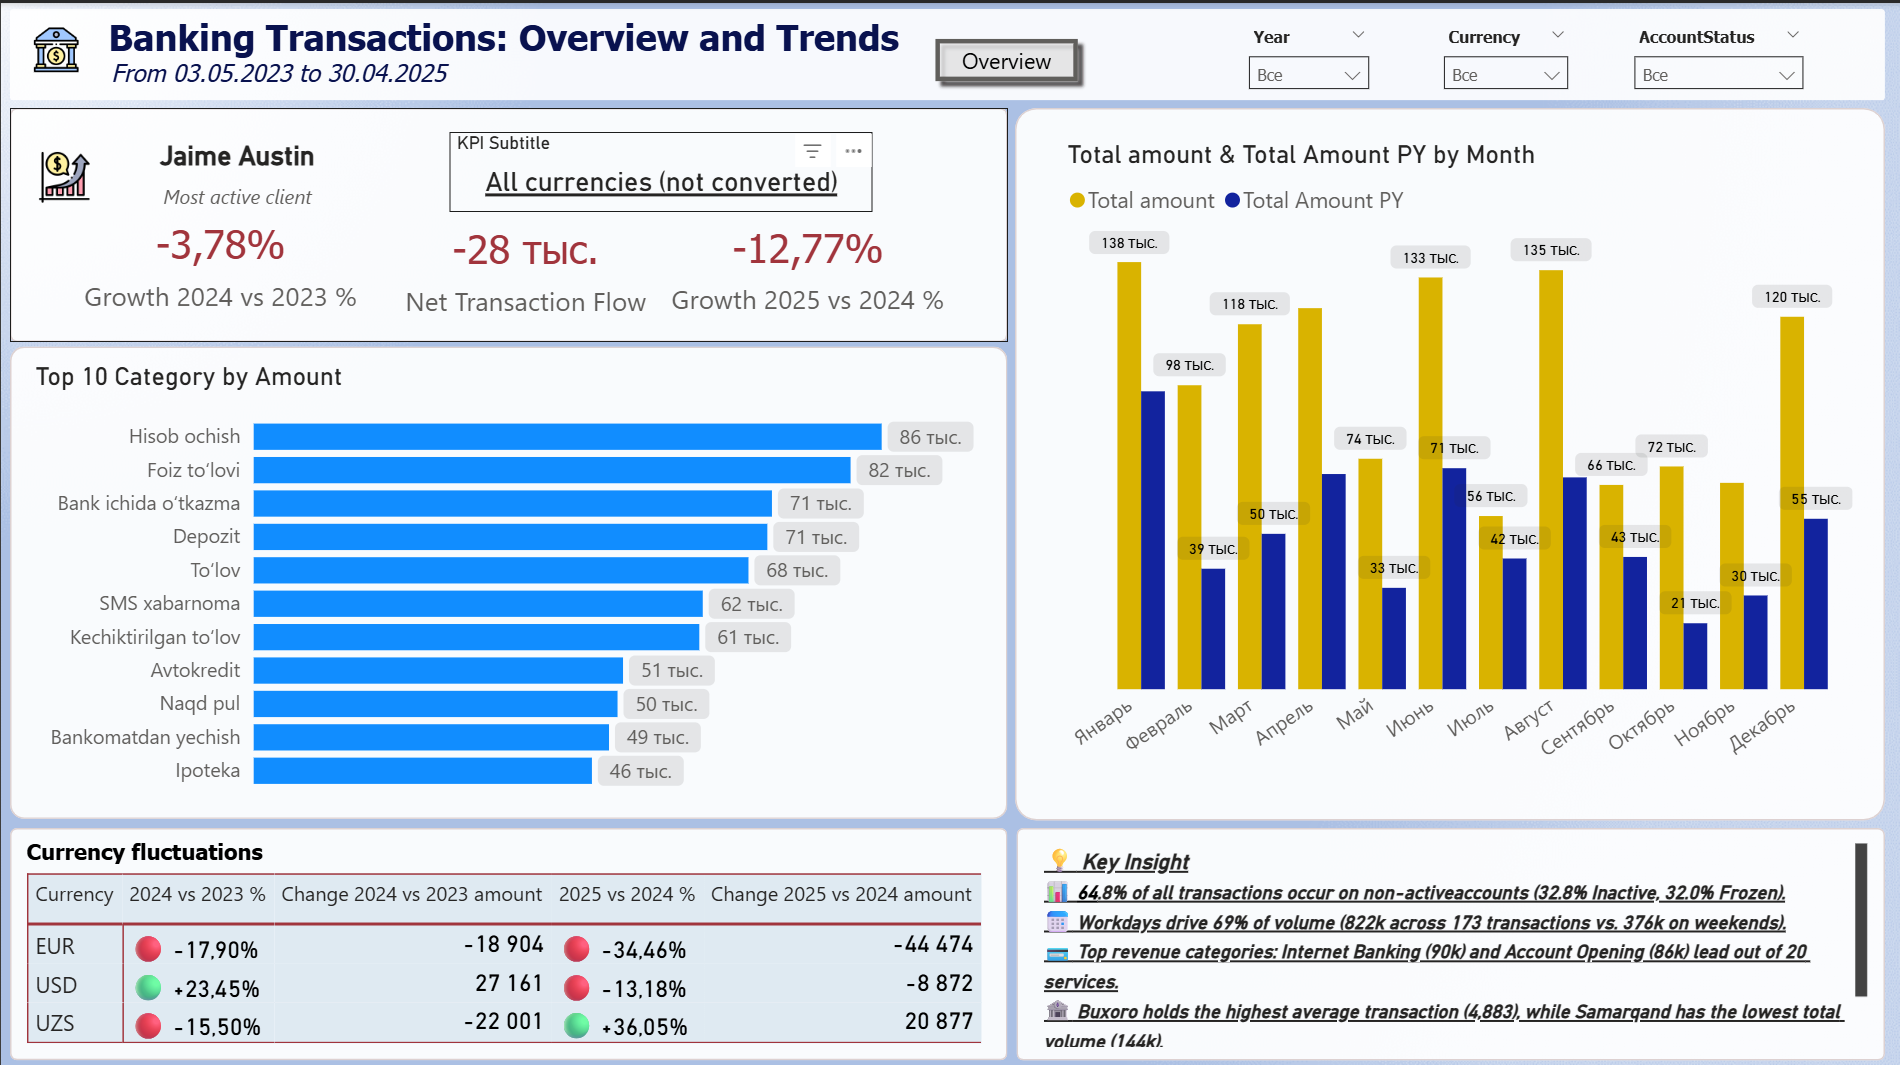

This screenshot's page, from the dashboard's own definition file:
{"tool":"powerbi","page":{"name":"Trends","canvas":[1280,720],"ordinal":1},"visuals":[{"type":"shape","box":[6.1,4,1257.1,61.4],"z":0,"group":"g2"},{"type":"shape","title":"Amount by Category","box":[6,70.4,668.8,156.9],"z":0,"group":"g3"},{"type":"group","id":"g1","title":"Группа 1","box":[679.9,70.4,583.3,477.7],"z":0},{"type":"shape","title":"Amount by Category","box":[679.9,70.4,583.3,477.7],"z":0,"group":"g1"},{"type":"shape","title":"Amount by Category","box":[6,230.3,668.8,316.8],"z":0,"group":"g4"},{"type":"shape","title":"Amount by Category","box":[6,553.2,668.8,155.7],"z":0,"group":"g6"},{"type":"shape","title":"Amount by Category","box":[680.9,553.2,582.3,155.9],"z":0,"group":"g5"},{"type":"group","id":"g2","title":"Группа 2","box":[0,4,1263.2,61.4],"z":1000},{"type":"actionButton","box":[619.1,17.2,109.5,42.3],"z":1000,"group":"g2"},{"type":"clusteredColumnChart","title":"Total amount & Total Amount PY by Month","fields":{"Category":["DimDate.Month Name"],"Y":["Transactions.Total amount","Transactions.Total Amount PY"]},"box":[710.2,91.6,536.1,436.3],"z":1000,"group":"g1"},{"type":"card","fields":{"Values":["Transactions.Growth 2025 vs 2024 %"]},"box":[442.5,138.4,196.1,74.4],"z":1000,"group":"g3"},{"type":"clusteredBarChart","title":"Top 10 Category by Amount","fields":{"Y":["Sum(Transactions.Amount)"],"Category":["Transactions.Category"]},"box":[18.5,240.1,643.8,297.2],"z":1000,"group":"g4"},{"type":"textbox","box":[693.6,558.7,562.6,146.5],"z":1000,"group":"g5"},{"type":"pivotTable","title":"Currency fluctuations","fields":{"Rows":["Transactions.Currency"],"Values":["Transactions.2024 vs 2023 %","DimDate.Change 2024 vs 2023 amount","Transactions.Currency Icon","DimDate.Change 2025 vs 2024 amount"]},"box":[12.3,559.9,650.2,149.1],"z":1000,"group":"g6"},{"type":"textbox","box":[0,7.8,626.6,54.7],"z":2000,"group":"g2"},{"type":"group","id":"g3","title":"Группа 3","box":[6,70.4,668.8,156.9],"z":2000},{"type":"card","fields":{"Values":["Transactions.Growth 2024 vs 2023 %"]},"box":[46.9,139.7,199.1,68.2],"z":2000,"group":"g3"},{"type":"slicer","fields":{"Values":["DimDate.Year"]},"box":[827.1,10.6,100.5,53.6],"z":3000,"group":"g2"},{"type":"card","fields":{"Values":["Transactions.Net profit"]},"box":[260.4,139.4,182,74.4],"z":3000,"group":"g3"},{"type":"group","id":"g4","title":"Группа 4","box":[6,230.3,668.8,316.8],"z":3000},{"type":"slicer","fields":{"Values":["Transactions.Currency"]},"box":[957.4,10.6,103.5,48.9],"z":4000,"group":"g2"},{"type":"image","box":[17.8,95,48.4,44.1],"z":4000,"group":"g3"},{"type":"group","id":"g5","title":"Группа 5","box":[680.9,553.2,582.3,155.9],"z":4000},{"type":"slicer","fields":{"Values":["Bank.AccountStatus"]},"box":[1084.8,10.6,133.3,48.9],"z":5000,"group":"g2"},{"type":"card","fields":{"Values":["Bank.Most active client"]},"box":[85.6,83.4,145.6,56.3],"z":5000,"group":"g3"},{"type":"group","id":"g6","title":"Группа 6","box":[6,553.2,668.8,155.9],"z":5000},{"type":"image","box":[6.1,10.6,62.4,40.6],"z":6000,"group":"g2"},{"type":"card","title":"KPI Subtitle","fields":{"Values":["Transactions.KPI subtitle"]},"box":[300.6,86.6,283.2,53],"z":6000,"group":"g3"}]}

Visuals, with their boxes in screenshot pixels (x1, y1, x2, y2), scaled from the page's 1280x720 canvas onto the 1900x1065 screenshot:
shape: 9, 6, 1875, 97
"Amount by Category" shape: 9, 104, 1002, 336
"Группа 1" group: 1009, 104, 1875, 811
"Amount by Category" shape: 1009, 104, 1875, 811
"Amount by Category" shape: 9, 341, 1002, 809
"Amount by Category" shape: 9, 818, 1002, 1049
"Amount by Category" shape: 1011, 818, 1875, 1049
"Группа 2" group: 0, 6, 1875, 97
actionButton: 919, 25, 1082, 88
"Total amount & Total Amount PY by Month" clusteredColumnChart: 1054, 135, 1850, 781
card - Transactions.Growth 2025 vs 2024 %: 657, 205, 948, 315
"Top 10 Category by Amount" clusteredBarChart: 27, 355, 983, 795
textbox: 1030, 826, 1865, 1043
"Currency fluctuations" pivotTable: 18, 828, 983, 1049
textbox: 0, 12, 930, 92
"Группа 3" group: 9, 104, 1002, 336
card - Transactions.Growth 2024 vs 2023 %: 70, 207, 365, 308
slicer - DimDate.Year: 1228, 16, 1377, 95
card - Transactions.Net profit: 387, 206, 657, 316
"Группа 4" group: 9, 341, 1002, 809
slicer - Transactions.Currency: 1421, 16, 1575, 88
image: 26, 141, 98, 206
"Группа 5" group: 1011, 818, 1875, 1049
slicer - Bank.AccountStatus: 1610, 16, 1808, 88
card - Bank.Most active client: 127, 123, 343, 207
"Группа 6" group: 9, 818, 1002, 1049
image: 9, 16, 102, 76
"KPI Subtitle" card: 446, 128, 867, 206
